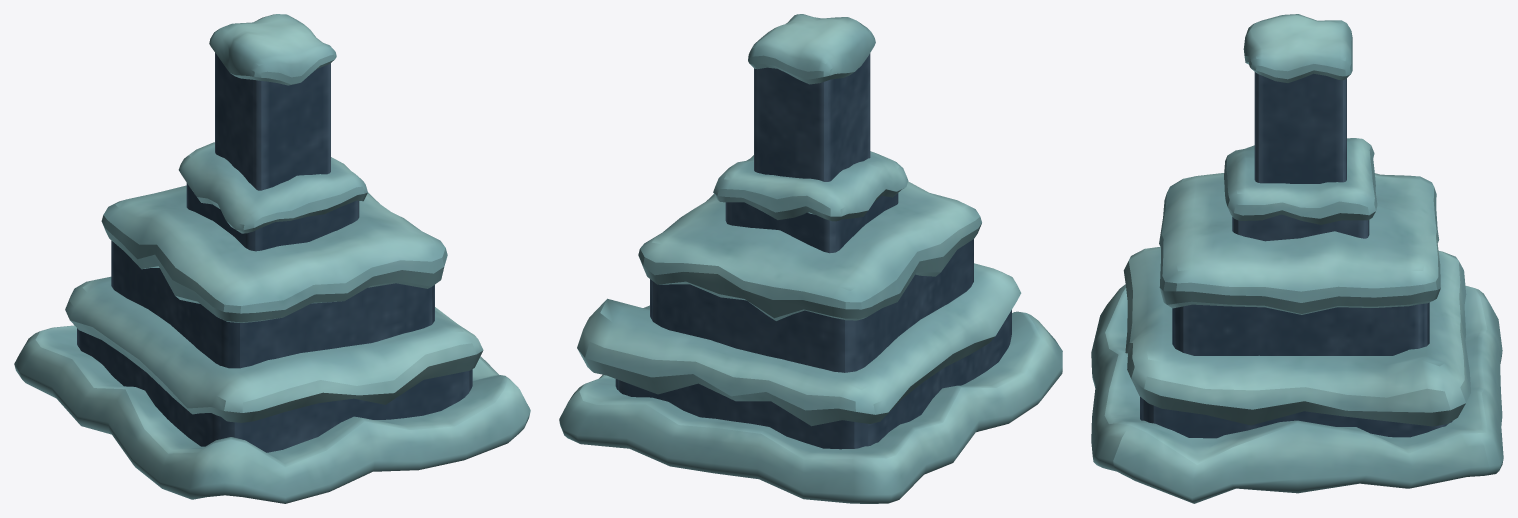
The model's file is SM_Tomb4_V2.fbx.
3 views of the same model, side by side, from view 1: azimuth 30°, elevation 25°; view 2: azimuth 150°, elevation 25°; view 3: azimuth 270°, elevation 25° (orthographic).
Visible parts, largest first — view 1: SM_Tomb4, SM_Tomb4Snow5, SM_Tomb4Snow3, SM_Tomb4Snow4, SM_Tomb4Snow2, SM_Tomb4Snow1; view 2: SM_Tomb4, SM_Tomb4Snow5, SM_Tomb4Snow4, SM_Tomb4Snow3, SM_Tomb4Snow2, SM_Tomb4Snow1; view 3: SM_Tomb4Snow5, SM_Tomb4, SM_Tomb4Snow4, SM_Tomb4Snow3, SM_Tomb4Snow2, SM_Tomb4Snow1.
Part boxes in pixels (left/top/right/bottom): SM_Tomb4: left=77, top=53, right=472, bottom=452; SM_Tomb4Snow5: left=14, top=325, right=530, bottom=503; SM_Tomb4Snow3: left=101, top=185, right=447, bottom=322; SM_Tomb4Snow4: left=65, top=276, right=483, bottom=422; SM_Tomb4Snow2: left=178, top=142, right=367, bottom=233; SM_Tomb4Snow1: left=209, top=14, right=336, bottom=85; SM_Tomb4: left=615, top=53, right=1011, bottom=449; SM_Tomb4Snow5: left=559, top=311, right=1062, bottom=503; SM_Tomb4Snow4: left=577, top=263, right=1021, bottom=426; SM_Tomb4Snow3: left=638, top=181, right=981, bottom=320; SM_Tomb4Snow2: left=713, top=151, right=908, bottom=221; SM_Tomb4Snow1: left=748, top=14, right=875, bottom=84; SM_Tomb4Snow5: left=1091, top=284, right=1503, bottom=503; SM_Tomb4: left=1140, top=72, right=1452, bottom=438; SM_Tomb4Snow4: left=1123, top=247, right=1470, bottom=426; SM_Tomb4Snow3: left=1159, top=173, right=1440, bottom=314; SM_Tomb4Snow2: left=1224, top=138, right=1377, bottom=224; SM_Tomb4Snow1: left=1243, top=14, right=1352, bottom=82.
Bounding box in the file's own units: 2.28 × 2.33 × 2.26.
